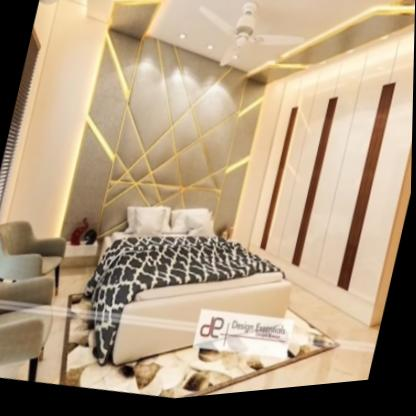Bed: (70, 160, 309, 391)
Ceramic floor: (203, 303, 380, 400)
Closet: (303, 16, 415, 347)
Wall Panel: (60, 8, 279, 267)
